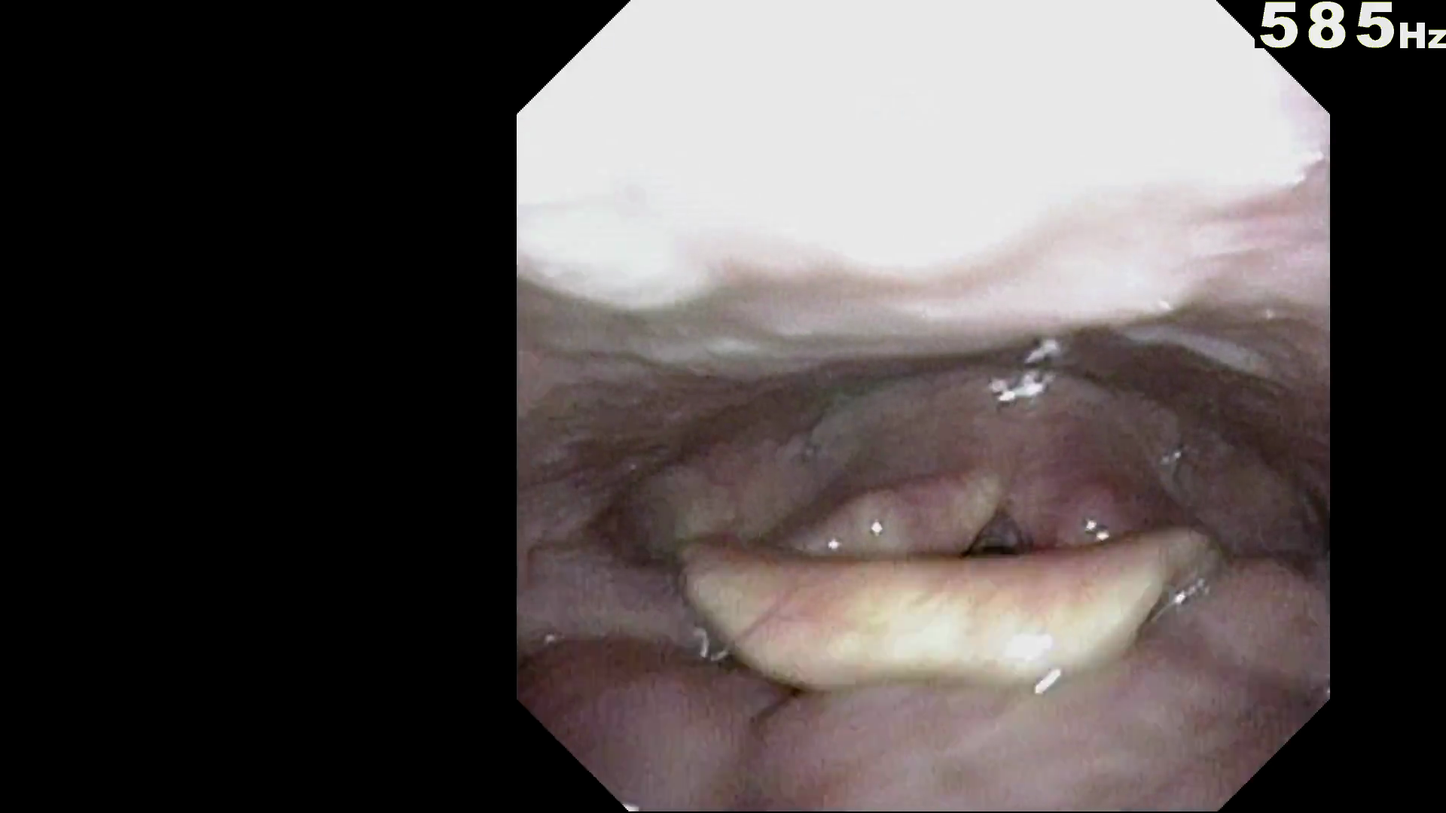epiglottis: (688, 534, 1229, 673)
trachea: (926, 533, 1054, 627)
